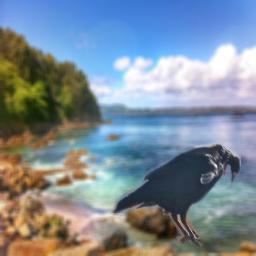Crow: (111, 142, 241, 247)
